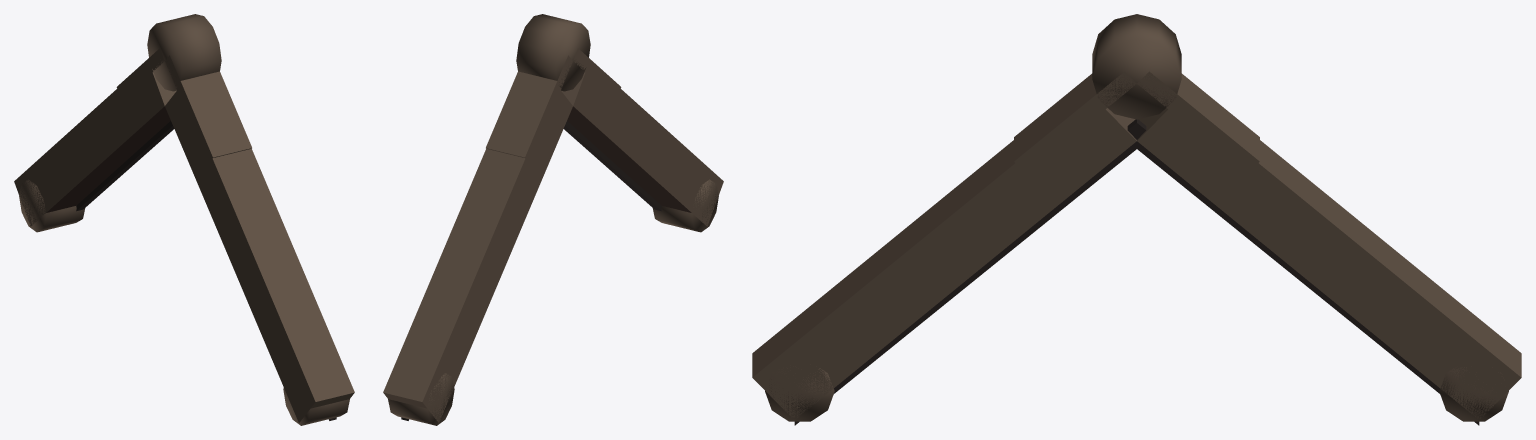
Rendered from kit_timber_thatch_w2_end.glb.
The picture shows the model from 3 angles, left to right: view 1: azimuth 30°, elevation 25°; view 2: azimuth 150°, elevation 25°; view 3: azimuth 270°, elevation 25°; orthographic projection. The views are drawn at different scales.
Visible parts, largest first — view 1: kit_timber_thatch_w2_end; view 2: kit_timber_thatch_w2_end; view 3: kit_timber_thatch_w2_end.
Boxes of the visible parts, bbox=[...] form: kit_timber_thatch_w2_end: bbox=[14, 14, 354, 425]; kit_timber_thatch_w2_end: bbox=[383, 14, 723, 425]; kit_timber_thatch_w2_end: bbox=[752, 14, 1521, 425].
Bounding box in the file's own units: 0.22 × 1.63 × 2.92.
